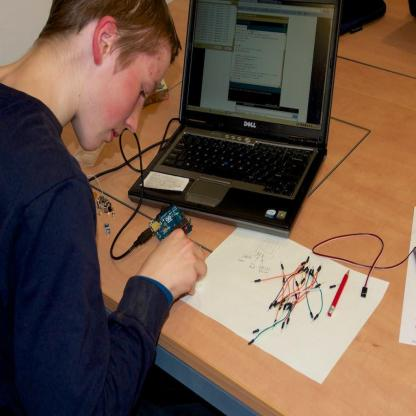board: (139, 0, 328, 236)
